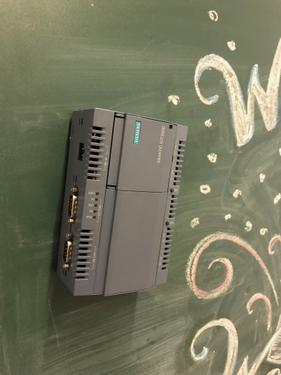device: (56, 108, 189, 297)
